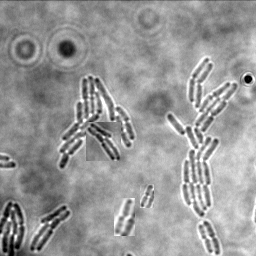Dividing: (114, 198, 135, 236), (204, 219, 222, 255), (199, 223, 215, 253), (140, 184, 154, 208)
Microcolony: (167, 57, 238, 216), (59, 75, 136, 169), (30, 204, 72, 251), (1, 200, 26, 255), (86, 122, 121, 161)
